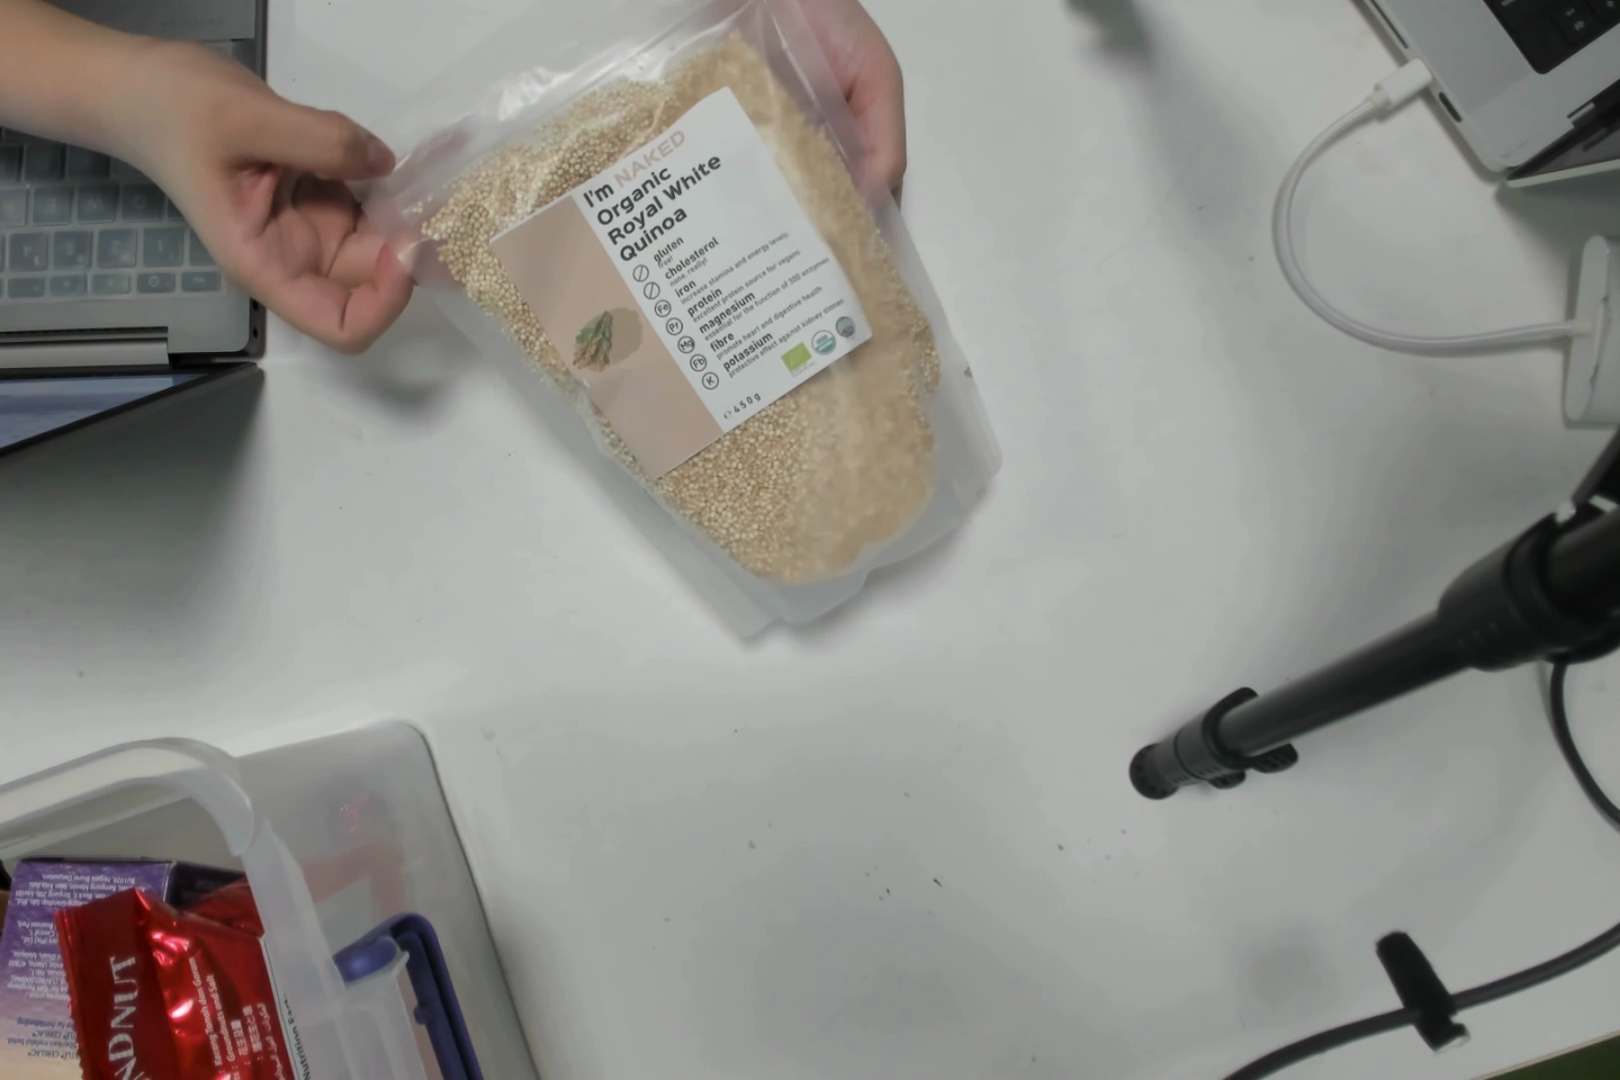Rice(brown-others)_400-499g_Halal_NonHealthy: (511, 94, 994, 595)
